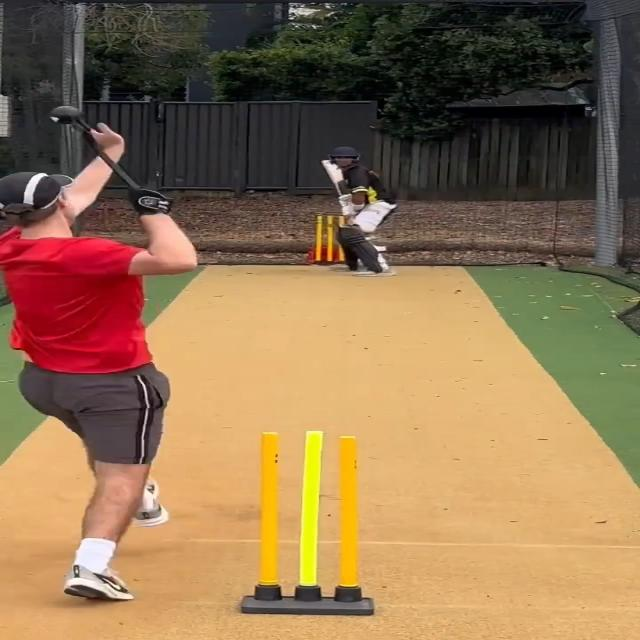stump: (239, 429, 376, 617), (314, 214, 346, 267)
